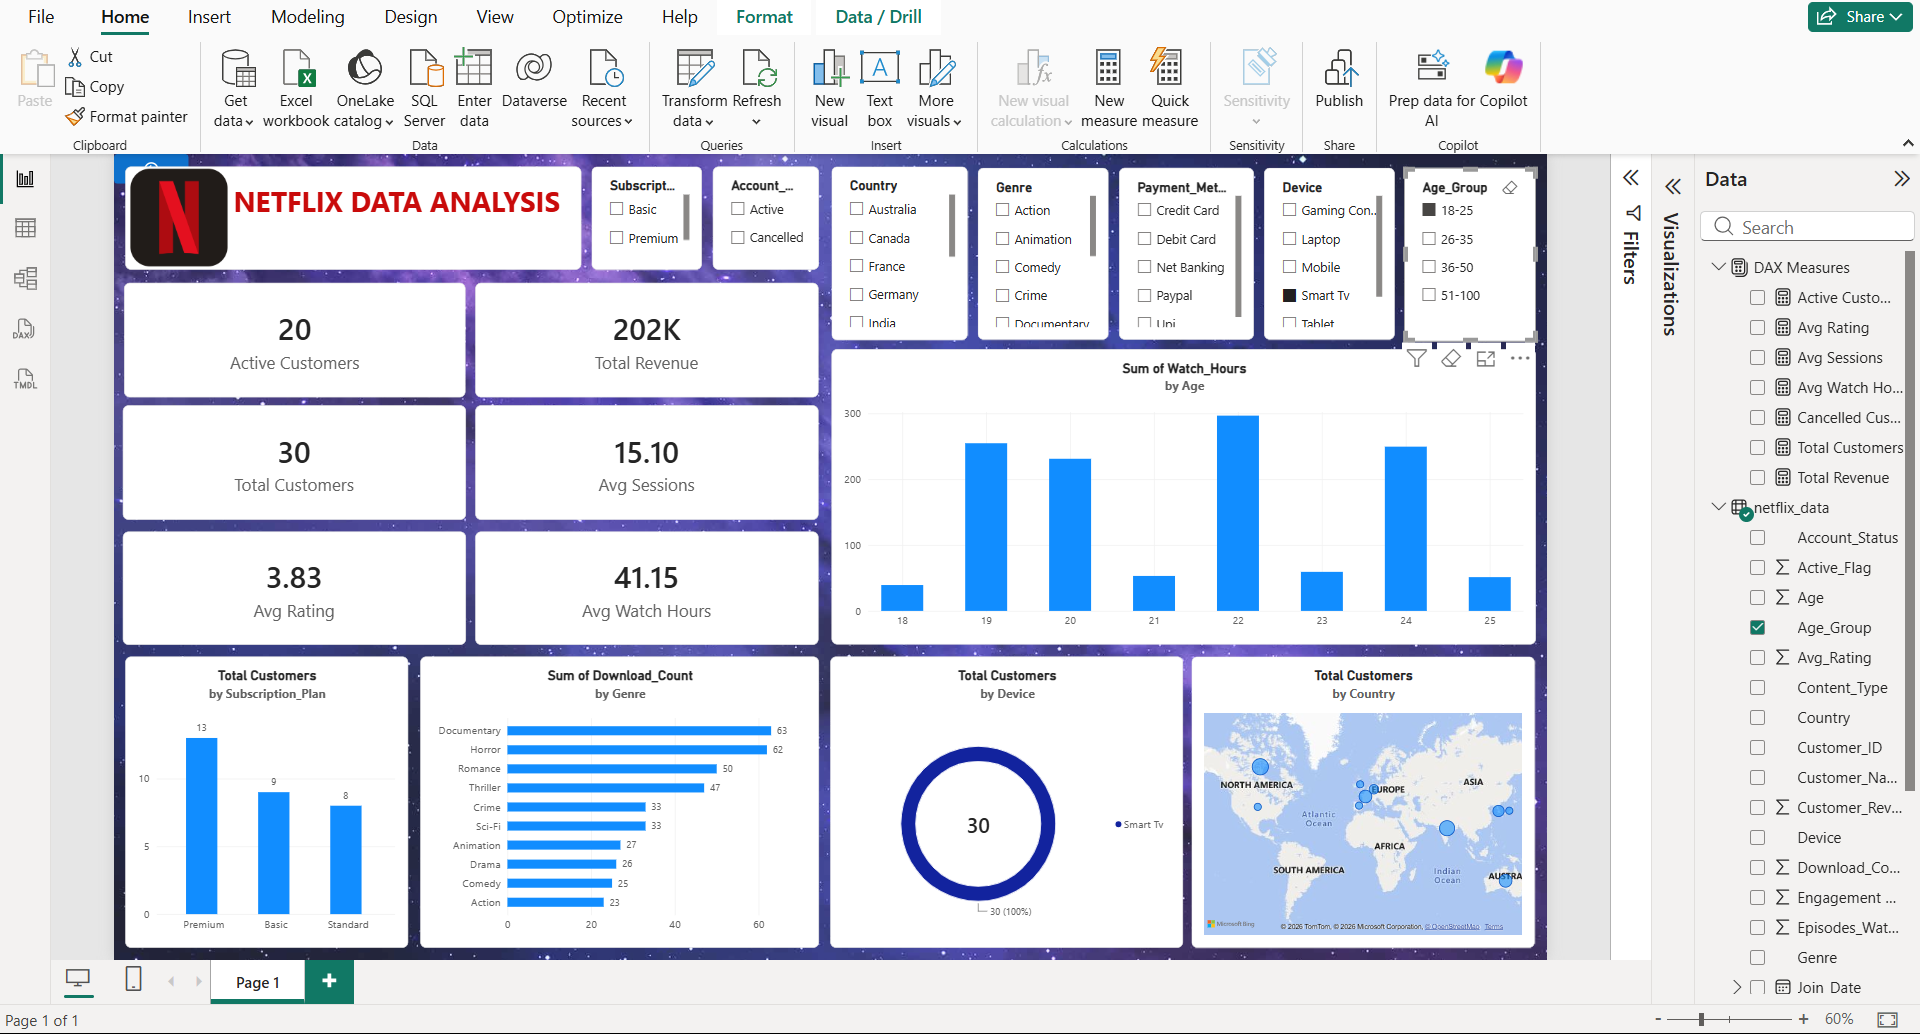

Layout of this report page (visuals, bound fields, positions):
{"tool":"powerbi","page":{"name":"Page 1","canvas":[1920,1080],"ordinal":0},"visuals":[{"type":"card","fields":{"Values":["DAX Measures.Total Revenue"]},"box":[484.6,173.1,459.6,153.8],"z":0},{"type":"card","fields":{"Values":["DAX Measures.Total Customers"]},"box":[11.5,336.5,459.6,153.8],"z":1000},{"type":"card","fields":{"Values":["DAX Measures.Active Customers"]},"box":[13.5,173.1,457.7,153.8],"z":2000},{"type":"actionButton","box":[0,0,100,40],"z":3000},{"type":"card","fields":{"Values":["DAX Measures.Avg Rating"]},"box":[11.5,505.8,459.6,151.9],"z":4000},{"type":"card","fields":{"Values":["DAX Measures.Avg Watch Hours"]},"box":[484.6,505.8,459.6,151.9],"z":5000},{"type":"clusteredColumnChart","fields":{"Category":["netflix_data.Age"],"Y":["Sum(netflix_data.Watch_Hours)"]},"box":[961.5,261.5,944.2,396.2],"z":6000},{"type":"slicer","fields":{"Values":["netflix_data.Country"]},"box":[961.5,17.3,182.7,232.7],"z":7000},{"type":"slicer","fields":{"Values":["netflix_data.Device"]},"box":[626.9,801.9,242.1,233.1],"z":8000},{"type":"slicer","fields":{"Values":["netflix_data.Subscription_Plan"]},"box":[640.4,17.3,148.1,138.5],"z":9000},{"type":"slicer","fields":{"Values":["netflix_data.Genre"]},"box":[1157.7,19.2,175,230.8],"z":10000},{"type":"slicer","fields":{"Values":["netflix_data.Account_Status"]},"box":[801.9,17.3,142.3,138.5],"z":11000},{"type":"columnChart","fields":{"Category":["netflix_data.Subscription_Plan"],"Y":["DAX Measures.Total Customers"]},"box":[15.4,673.1,378.8,390.4],"z":12000},{"type":"map","fields":{"Category":["netflix_data.Country"],"Size":["DAX Measures.Total Customers"]},"box":[1444.2,673.1,459.6,390.4],"z":13000},{"type":"barChart","fields":{"Category":["netflix_data.Genre"],"Y":["Sum(netflix_data.Download_Count)"]},"box":[409.6,673.1,534.6,390.4],"z":14000},{"type":"donutChart","fields":{"Category":["netflix_data.Device"],"Y":["DAX Measures.Total Customers"]},"box":[959.6,673.1,473.1,390.4],"z":15000},{"type":"slicer","fields":{"Values":["netflix_data.Age_Group"]},"box":[1728.8,19.2,176.9,232.7],"z":16000},{"type":"textbox","box":[15.4,17.3,611.5,138.5],"z":17000},{"type":"card","fields":{"Values":["DAX Measures.Avg Sessions"]},"box":[484.6,336.5,459.6,153.8],"z":18000},{"type":"slicer","fields":{"Values":["netflix_data.Payment_Method"]},"box":[1346.2,19.2,180.8,230.8],"z":19000},{"type":"image","box":[15.4,17.3,144.2,136.5],"z":20000},{"type":"slicer","fields":{"Values":["netflix_data.Device"]},"box":[1540.4,19.2,175,230.8],"z":21000}]}

Visuals, with their boxes on the page's 1920x1080 design canvas (x1, y1, x2, y2). These are canvas units, not pixel positions in the 1920x1034 screenshot, which may show the page scaled, cropped or inside an application window:
card - DAX Measures.Total Revenue: 485:173:944:327
card - DAX Measures.Total Customers: 12:336:471:490
card - DAX Measures.Active Customers: 14:173:471:327
actionButton: 0:0:100:40
card - DAX Measures.Avg Rating: 12:506:471:658
card - DAX Measures.Avg Watch Hours: 485:506:944:658
clusteredColumnChart - netflix_data.Age x Sum(netflix_data.Watch_Hours): 962:262:1906:658
slicer - netflix_data.Country: 962:17:1144:250
slicer - netflix_data.Device: 627:802:869:1035
slicer - netflix_data.Subscription_Plan: 640:17:788:156
slicer - netflix_data.Genre: 1158:19:1333:250
slicer - netflix_data.Account_Status: 802:17:944:156
columnChart - netflix_data.Subscription_Plan x DAX Measures.Total Customers: 15:673:394:1064
map - netflix_data.Country x DAX Measures.Total Customers: 1444:673:1904:1064
barChart - netflix_data.Genre x Sum(netflix_data.Download_Count): 410:673:944:1064
donutChart - netflix_data.Device x DAX Measures.Total Customers: 960:673:1433:1064
slicer - netflix_data.Age_Group: 1729:19:1906:252
textbox: 15:17:627:156
card - DAX Measures.Avg Sessions: 485:336:944:490
slicer - netflix_data.Payment_Method: 1346:19:1527:250
image: 15:17:160:154
slicer - netflix_data.Device: 1540:19:1715:250
